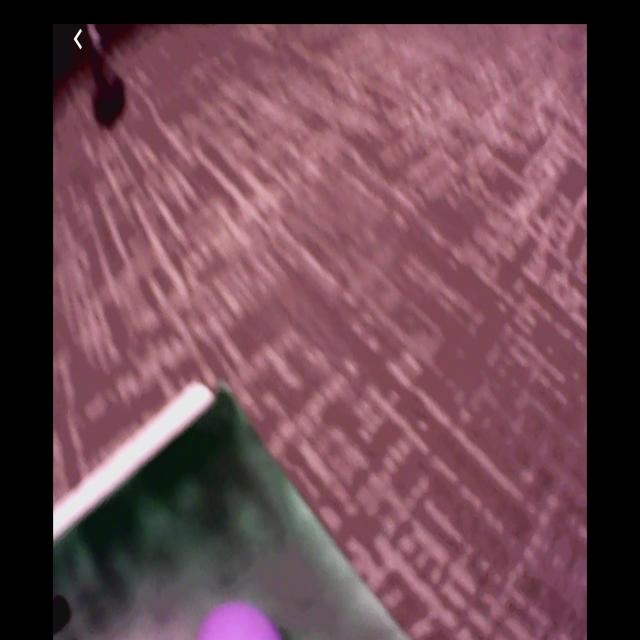ball: (196, 599, 285, 640)
